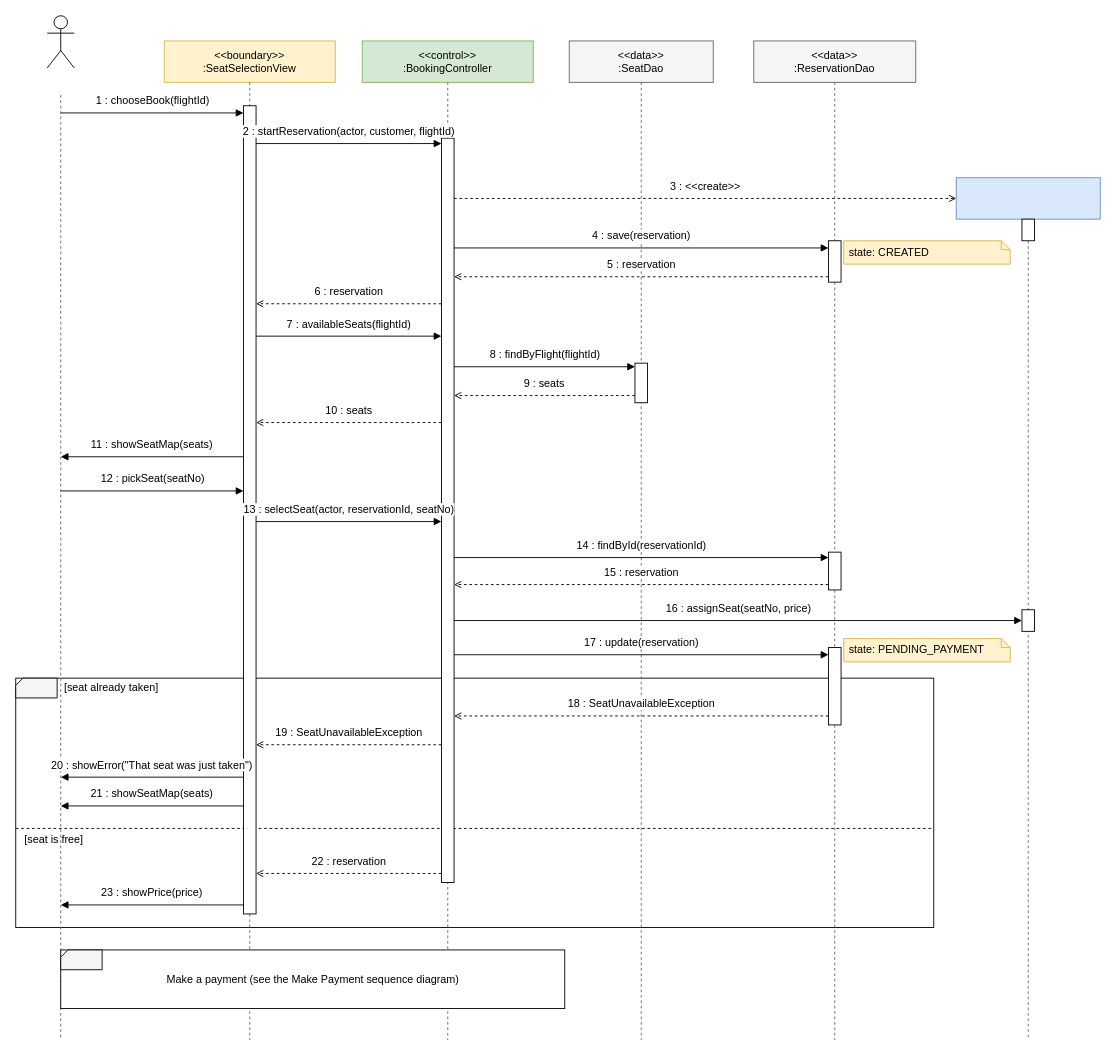
This 1116x1057 diagram has some shape labels left out. The shapes that lost their labels are listed below. From the top down, each one's centre as x and y in pixels, then its label:
At point 60,41: "Customer".
At point 1027,198: "<<entity>> :Reservation".
At point 36,687: "alt".
At point 81,959: "ref".
